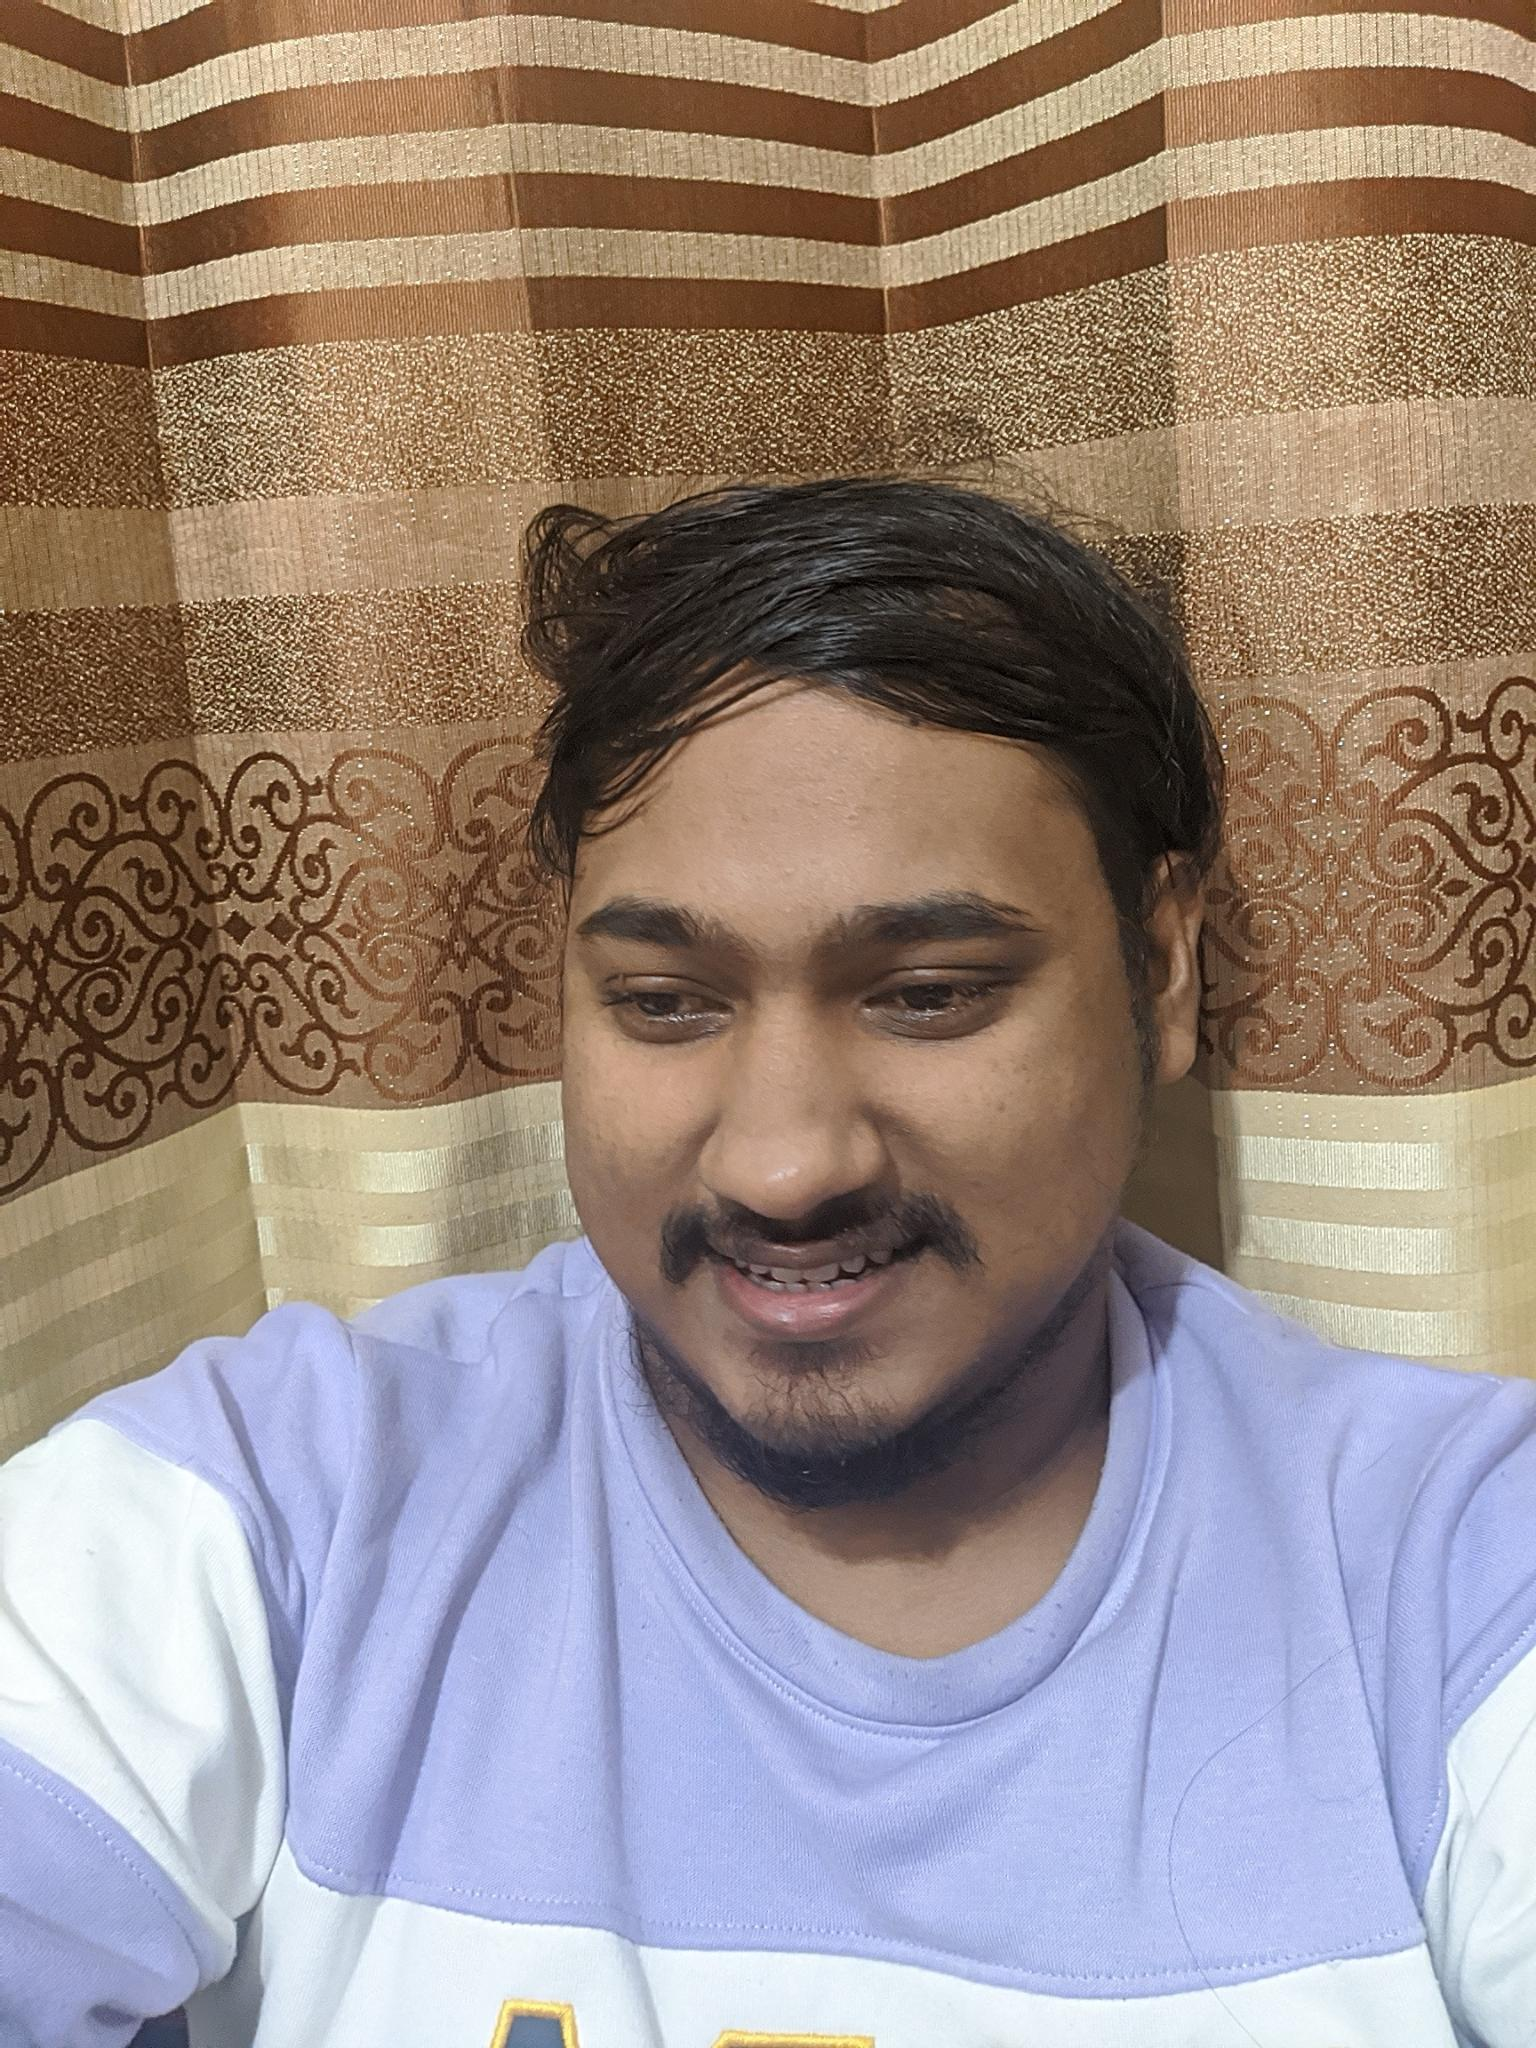Happy: (499, 771, 1170, 1476)
